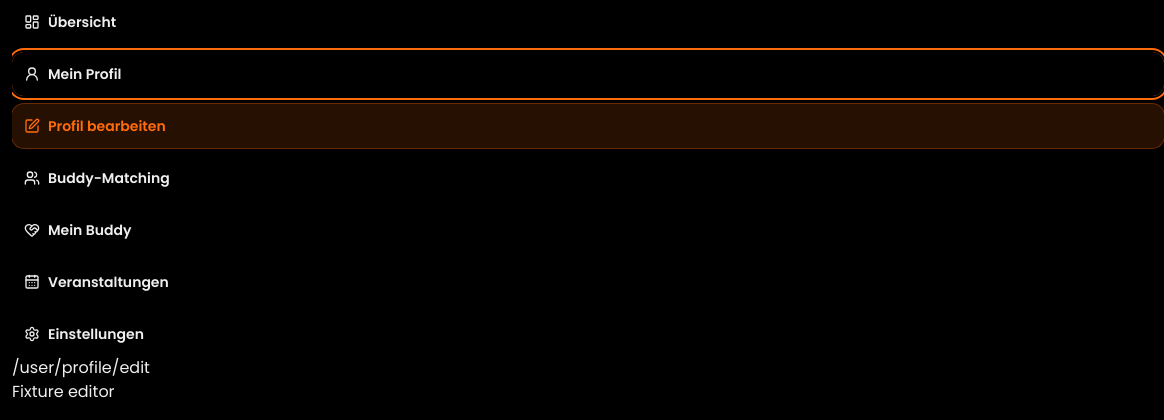
Test case: FE-022 student sidebar navigation › allows native links to supplied released pages and updates active state in de
This screenshot has width=1164, height=420.
Click the link "Mein Profil" at (85, 74), box [12, 52, 1163, 96]
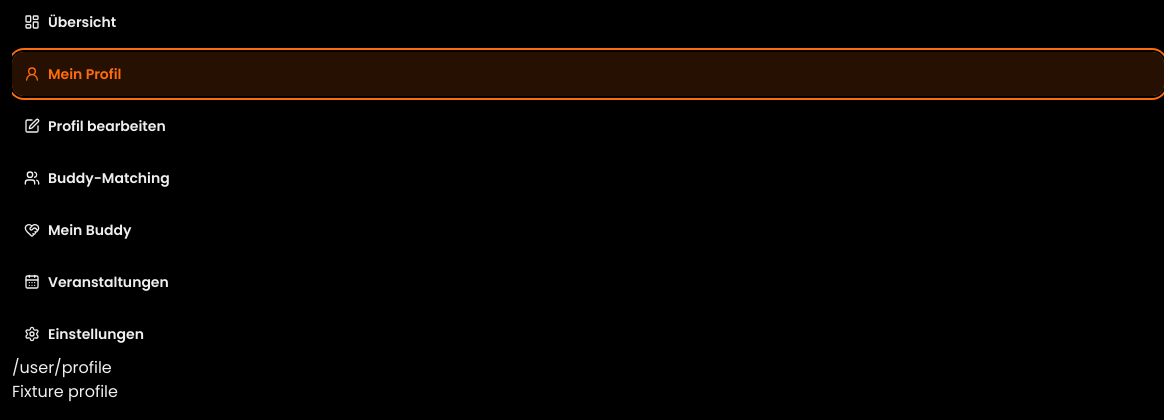
Check: the heading "Fixture profile" is shown, box [12, 380, 118, 403]
Click the link "Veranstaltungen" at (96, 282), box [24, 272, 169, 292]
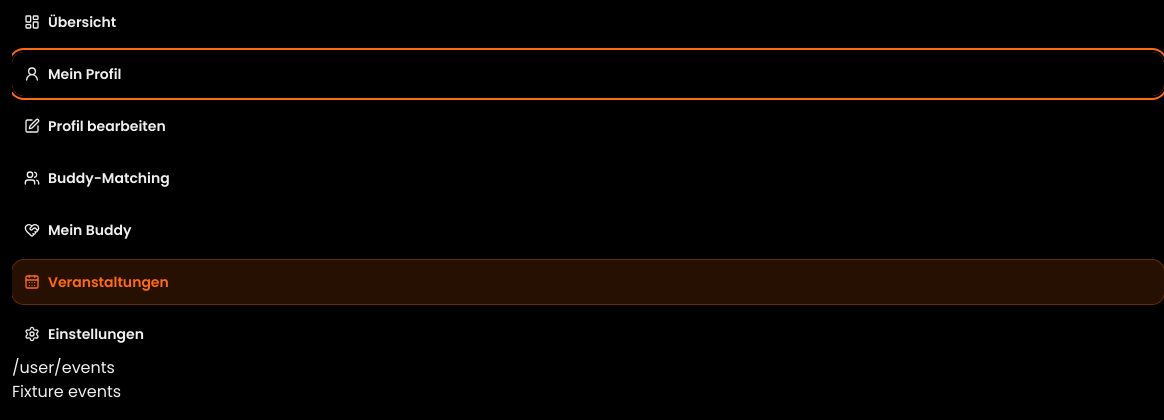
Check: the heading "Fixture events" is shown, box [12, 380, 121, 403]
Check: the text with test id "location" reads "/user/events", box [12, 356, 115, 379]
